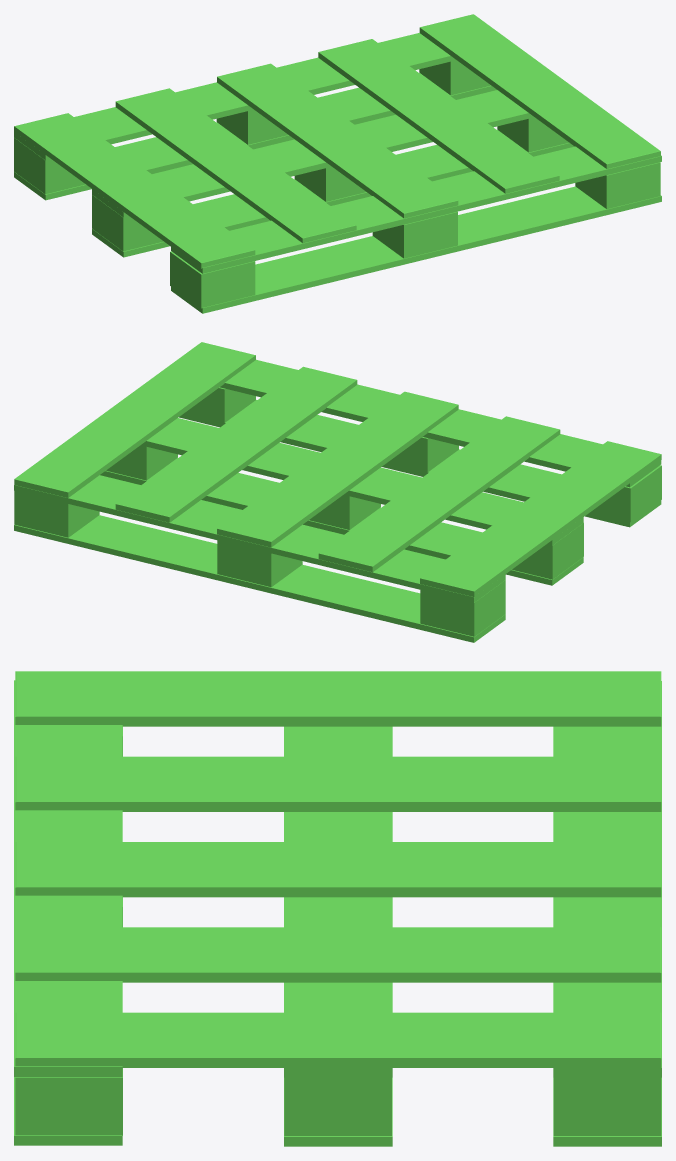
File: wooden_pallet.fbx
3 views of the same model, one above another, from view 1: azimuth 30°, elevation 25°; view 2: azimuth 150°, elevation 25°; view 3: azimuth 270°, elevation 25° (orthographic). The views are drawn at different scales.
Parts seen in each view (by area): view 1: Cube.019, Cube, Cube.009; view 2: Cube.019, Cube, Cube.009; view 3: Cube.019, Cube, Cube.009.
Boxes of the visible parts, bbox=[...] form: Cube.019: bbox=[14, 14, 661, 313]; Cube: bbox=[14, 33, 661, 273]; Cube.009: bbox=[14, 60, 660, 308]; Cube.019: bbox=[14, 342, 661, 642]; Cube: bbox=[14, 359, 661, 602]; Cube.009: bbox=[14, 387, 661, 636]; Cube.019: bbox=[14, 671, 661, 1146]; Cube: bbox=[14, 680, 661, 1077]; Cube.009: bbox=[15, 727, 661, 1135].
Bounding box in the file's own units: 170 × 18.16 × 120.
